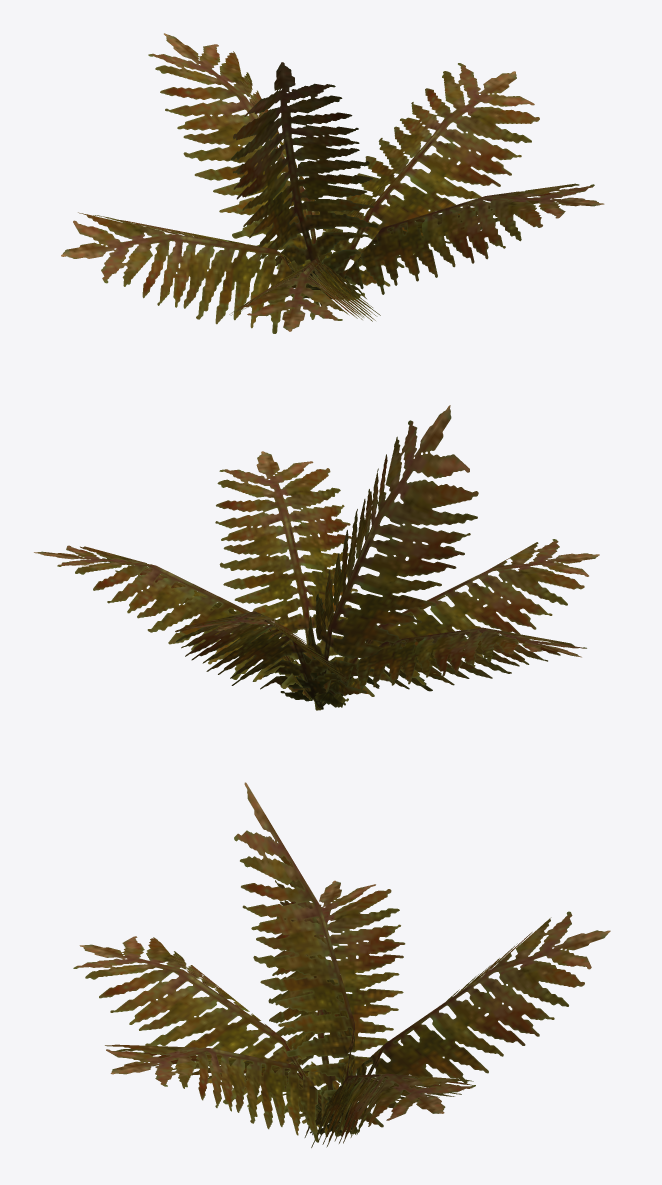
The model's file is OZ_02_mi_weed05A.glb.
3 views of the same model, one above another, from view 1: azimuth 30°, elevation 25°; view 2: azimuth 150°, elevation 25°; view 3: azimuth 270°, elevation 25° (orthographic). The views are drawn at different scales.
Parts seen in each view (by area): view 1: OM_02_mi_weed05A; view 2: OM_02_mi_weed05A; view 3: OM_02_mi_weed05A.
Boxes of the visible parts, box(x1,y1,x2,y2) form: OM_02_mi_weed05A: box(61, 33, 604, 333); OM_02_mi_weed05A: box(34, 405, 599, 710); OM_02_mi_weed05A: box(73, 782, 610, 1147).
Size of the model in its own units: 2.94 by 1.6 by 2.73.
1 material, 1 textured.
